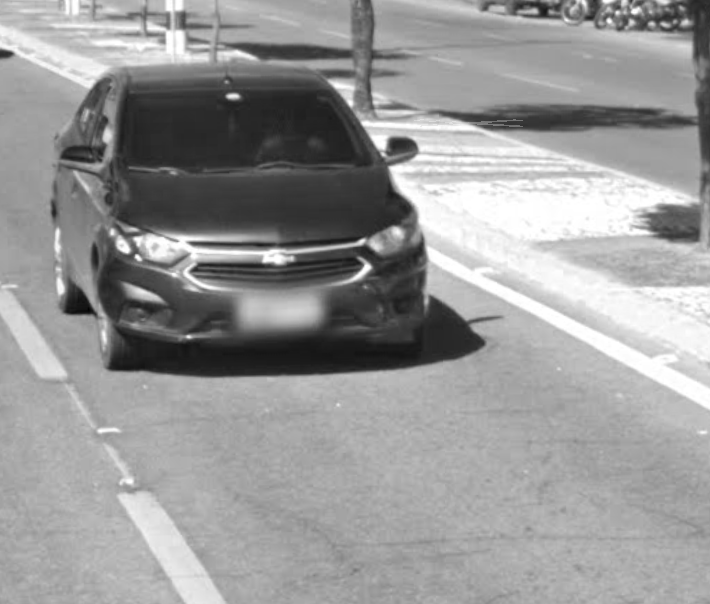car: (41, 40, 440, 376)
